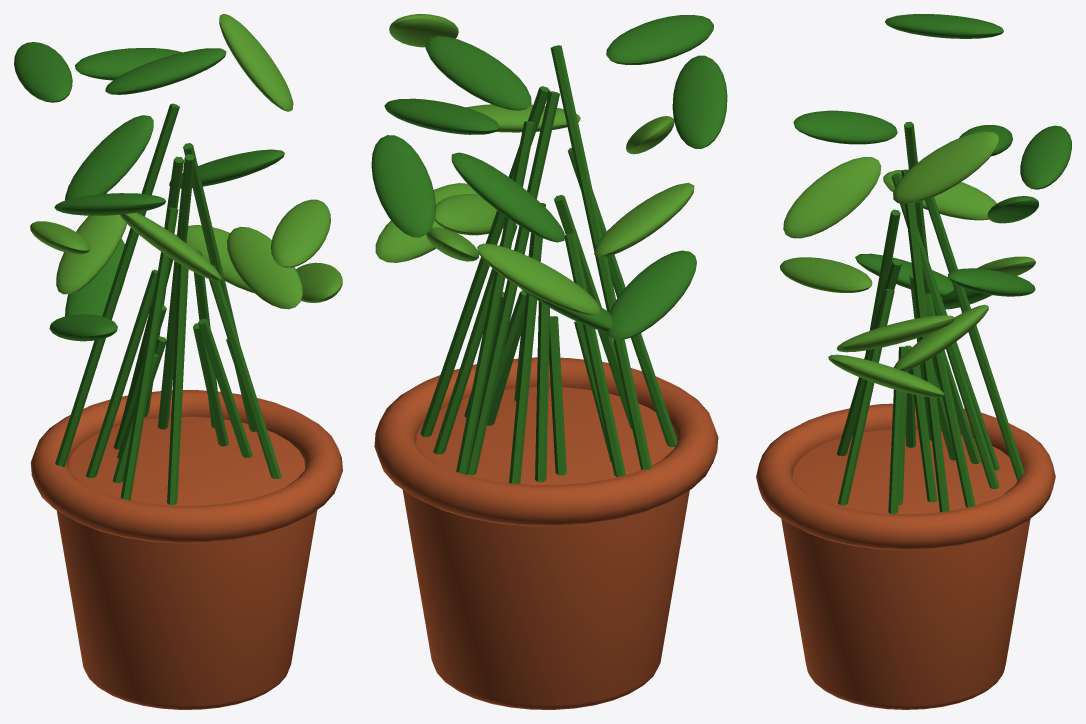
The model's file is plant.glb.
3 views of the same model, side by side, from view 1: azimuth 30°, elevation 25°; view 2: azimuth 150°, elevation 25°; view 3: azimuth 270°, elevation 25° (orthographic). The views are drawn at different scales.
Parts seen in each view (by area): view 1: plant; view 2: plant; view 3: plant.
Part boxes in pixels (<box>): plant: <box>14,14,342,709</box>; plant: <box>371,14,727,709</box>; plant: <box>756,14,1071,709</box>.
Size of the model in its own units: 0.3913 by 0.7997 by 0.3836.
